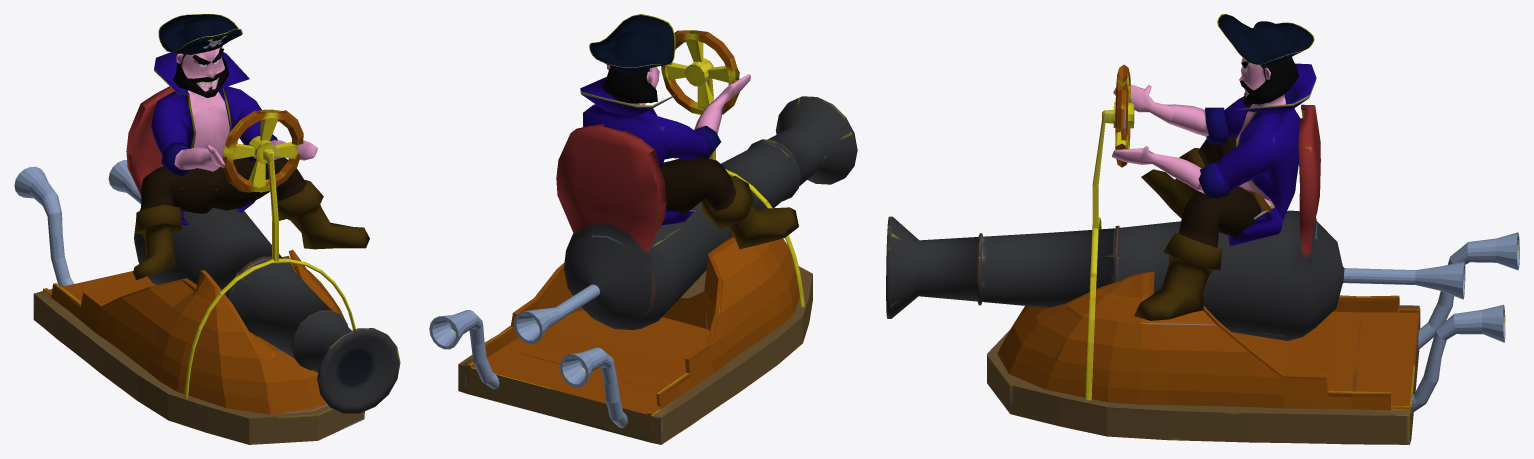
The model's file is pirataGiroDER_000286.obj.
3 views of the same model, side by side, from view 1: azimuth 30°, elevation 25°; view 2: azimuth 150°, elevation 25°; view 3: azimuth 270°, elevation 25° (orthographic). The views are drawn at different scales.
Visible parts, largest first — view 1: carro_pirata, Pirata_PirataH; view 2: carro_pirata, Pirata_PirataH; view 3: carro_pirata, Pirata_PirataH.
Boxes of the visible parts, left/top/right/bottom form: carro_pirata: left=14, top=86, right=400, bottom=444; Pirata_PirataH: left=133, top=14, right=369, bottom=280; carro_pirata: left=429, top=30, right=857, bottom=444; Pirata_PirataH: left=580, top=14, right=798, bottom=249; carro_pirata: left=886, top=64, right=1519, bottom=444; Pirata_PirataH: left=1112, top=14, right=1316, bottom=320.
Size of the model in its own units: 5.65 by 7.7 by 12.1.
2 materials, 2 textured.
